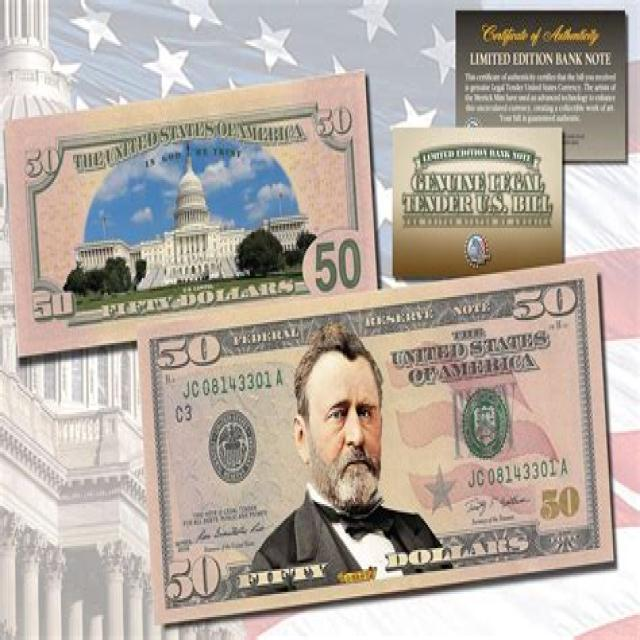Fifty: (139, 259, 616, 626), (5, 68, 382, 361)
